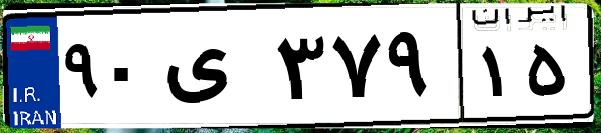0: (110, 28, 158, 98)
1: (475, 38, 525, 113)
3: (270, 28, 330, 110)
5: (525, 38, 570, 115)
7: (330, 28, 385, 110)
9: (385, 28, 445, 110), (57, 26, 110, 100)
ی: (158, 20, 270, 120)
